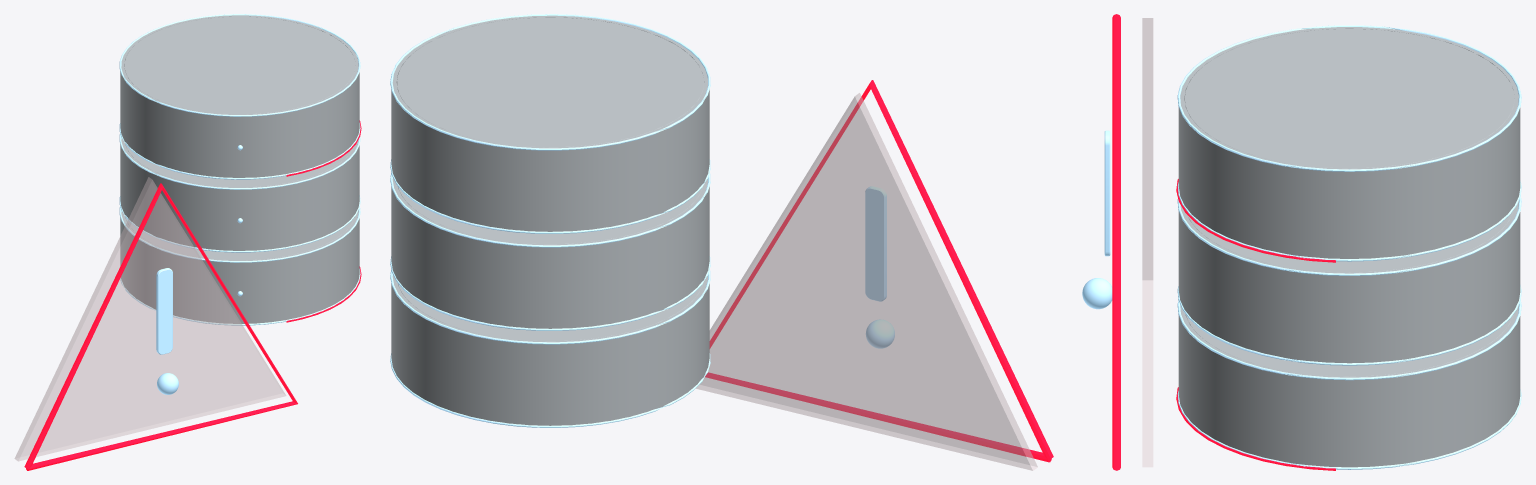
Rendered from 28-risk.glb.
The picture shows the model from 3 angles, left to right: view 1: azimuth 30°, elevation 25°; view 2: azimuth 150°, elevation 25°; view 3: azimuth 270°, elevation 25°; orthographic projection. The views are drawn at different scales.
Visible parts, largest first — view 1: BC thin clear technical glass, BC subtle ruby technical glass, BC cool glass edge, BC ruby signal edge; view 2: BC thin clear technical glass, BC subtle ruby technical glass, BC cool glass edge, BC ruby signal edge; view 3: BC thin clear technical glass, BC cool glass edge, BC subtle ruby technical glass, BC ruby signal edge.
Boxes of the visible parts, left/top/right/bottom form: BC thin clear technical glass: left=120, top=15, right=359, bottom=323; BC subtle ruby technical glass: left=14, top=177, right=286, bottom=461; BC cool glass edge: left=119, top=14, right=360, bottom=394; BC ruby signal edge: left=24, top=120, right=361, bottom=470; BC thin clear technical glass: left=391, top=15, right=709, bottom=425; BC subtle ruby technical glass: left=696, top=93, right=1037, bottom=470; BC cool glass edge: left=390, top=14, right=894, bottom=427; BC ruby signal edge: left=705, top=80, right=1053, bottom=462; BC thin clear technical glass: left=1178, top=27, right=1520, bottom=467; BC cool glass edge: left=1082, top=25, right=1521, bottom=469; BC subtle ruby technical glass: left=1142, top=18, right=1153, bottom=467; BC ruby signal edge: left=1112, top=14, right=1335, bottom=470.
Size of the model in its own units: 2.13 by 1.39 by 1.41.
